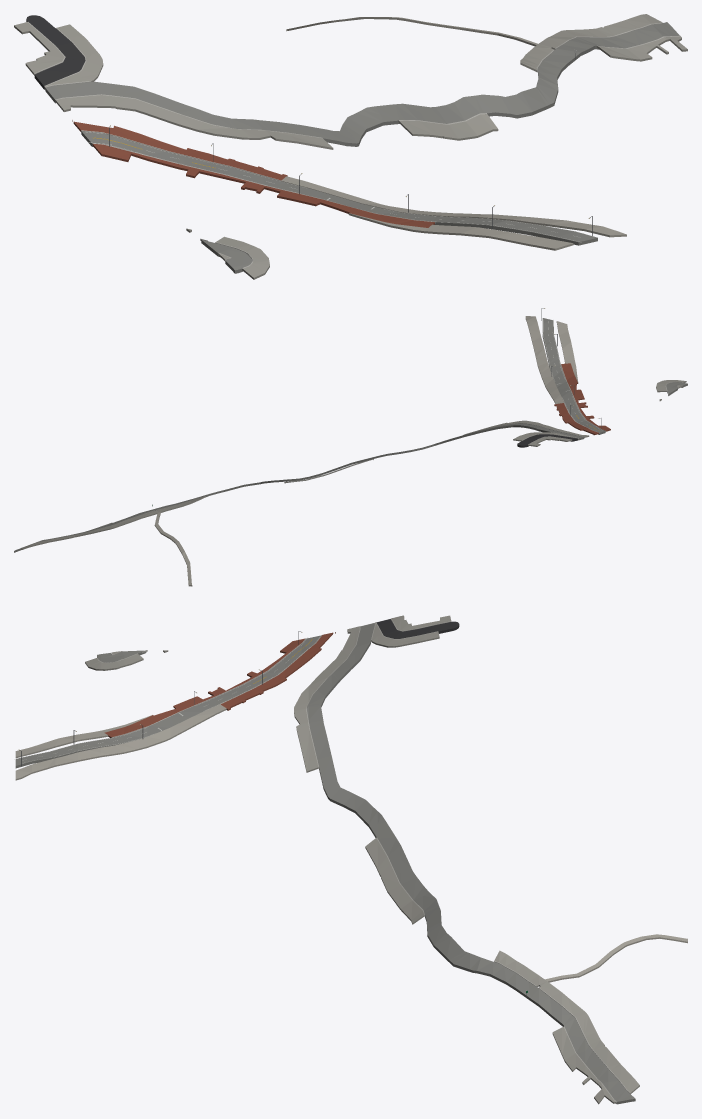
3 views of the same model, one above another, from view 1: azimuth 30°, elevation 25°; view 2: azimuth 150°, elevation 25°; view 3: azimuth 270°, elevation 25° (orthographic). The views are drawn at different scales.
Size of the model in its own units: 295 by 101 by 292.
